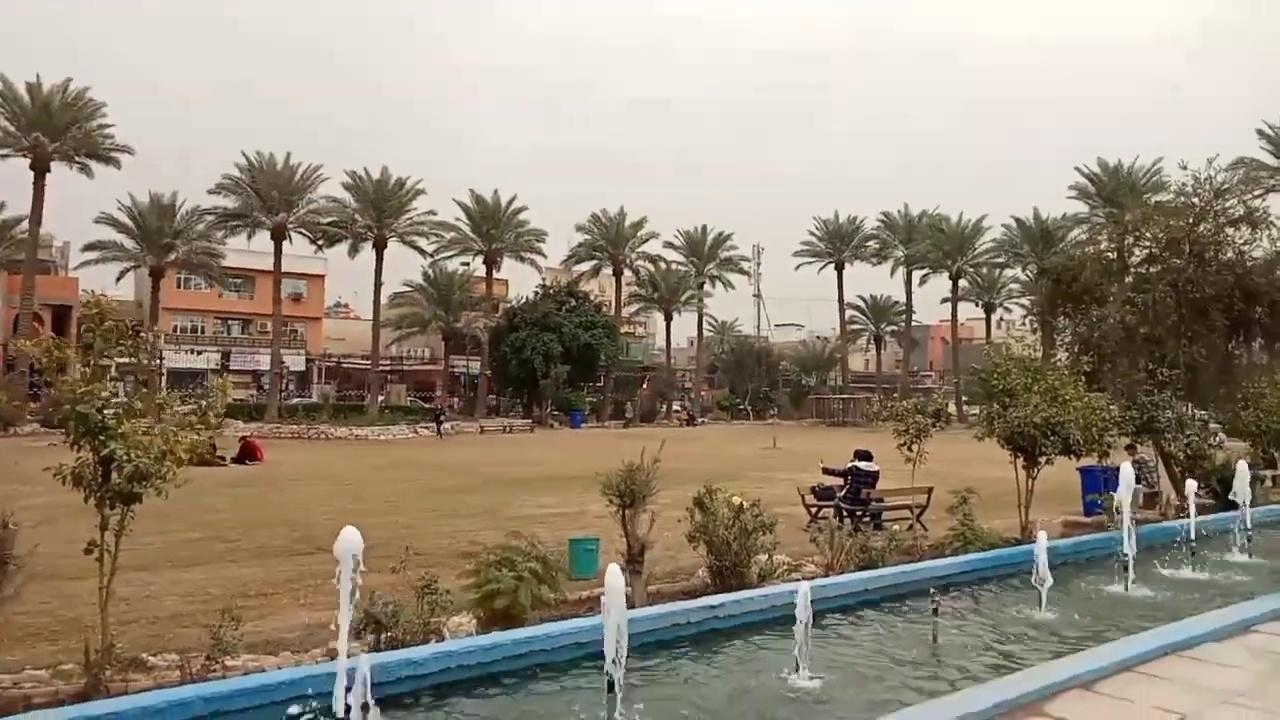fountain: (5, 476, 1277, 718), (775, 579, 826, 688), (598, 560, 629, 717), (1028, 528, 1056, 618)
person: (818, 448, 880, 529), (1123, 442, 1160, 511), (231, 435, 264, 464), (432, 404, 446, 439), (622, 400, 633, 428), (207, 435, 217, 456)
tree: (6, 288, 235, 693), (0, 70, 135, 386), (202, 147, 334, 421), (1133, 152, 1270, 413), (72, 187, 229, 394), (313, 163, 438, 411), (961, 345, 1116, 539), (1060, 153, 1172, 403), (428, 186, 548, 416), (560, 204, 659, 420), (1221, 116, 1279, 468), (491, 276, 618, 425), (907, 209, 995, 423), (661, 223, 751, 417), (790, 208, 878, 395), (381, 258, 483, 408), (990, 204, 1081, 368), (866, 202, 939, 398), (623, 257, 704, 422), (594, 437, 666, 607), (678, 479, 780, 593), (454, 529, 566, 630), (1124, 384, 1215, 507), (865, 392, 950, 488), (938, 262, 1026, 353), (843, 291, 911, 400), (499, 324, 564, 422), (1228, 366, 1279, 470), (717, 335, 777, 417), (1223, 117, 1279, 202), (785, 334, 844, 392), (702, 314, 743, 359)
